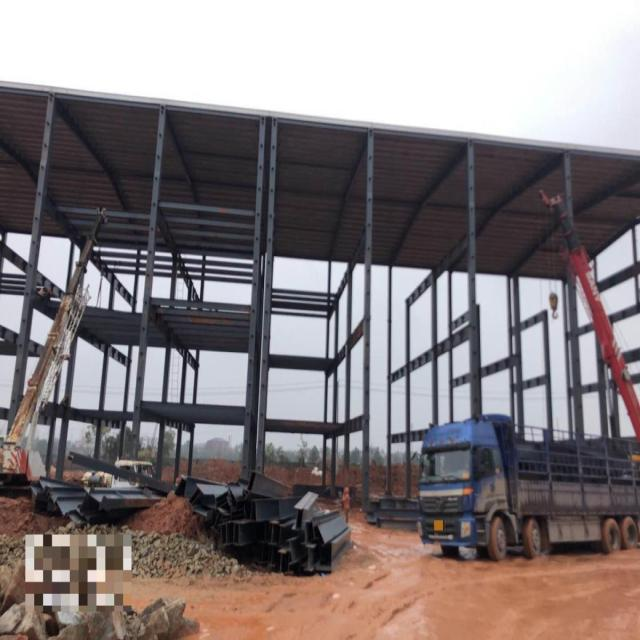crane: (0, 205, 115, 504), (542, 186, 640, 443)
truck: (409, 401, 640, 580)
